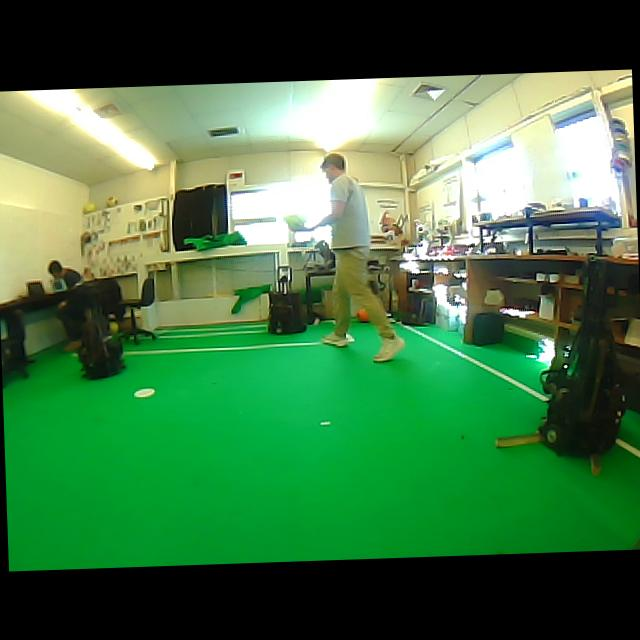ball: (356, 309, 369, 321), (82, 202, 96, 213), (106, 196, 117, 207), (109, 321, 117, 333)
robot: (539, 257, 625, 455), (78, 309, 125, 379), (268, 265, 305, 333)
